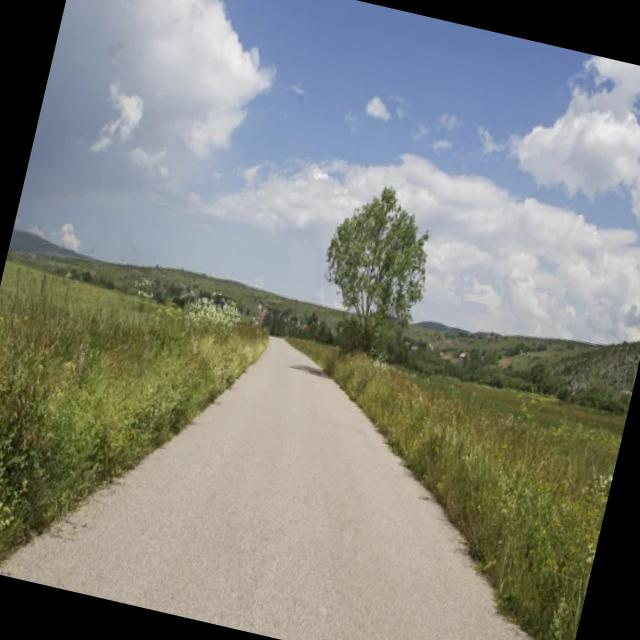cement: (0, 338, 529, 640)
grass: (292, 341, 626, 640), (0, 261, 268, 559)
